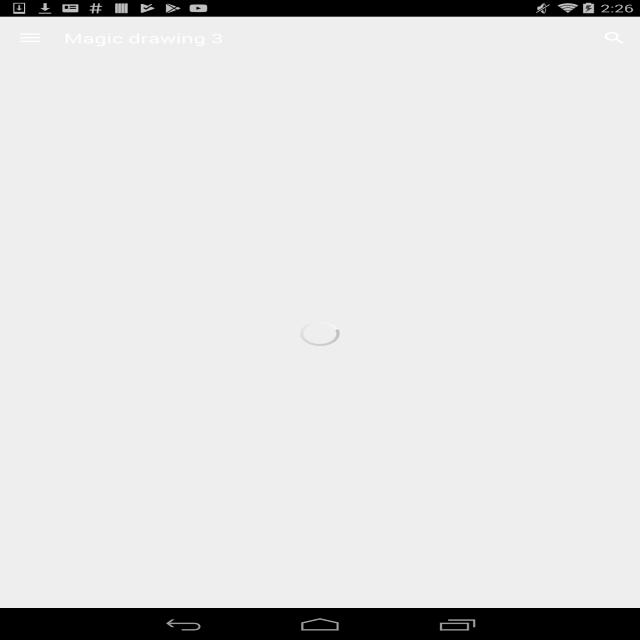Button: (222, 406, 316, 472), (324, 406, 418, 472), (426, 406, 520, 472), (454, 352, 614, 376)
ImageButton: (0, 17, 60, 59)
ImageView: (0, 59, 640, 254), (26, 270, 196, 377), (296, 550, 441, 640), (0, 550, 144, 640), (148, 550, 292, 640), (445, 550, 589, 640), (264, 121, 376, 192), (593, 550, 640, 640), (332, 406, 411, 455), (434, 406, 513, 455), (60, 30, 224, 46), (589, 270, 614, 286), (222, 312, 239, 323), (281, 464, 290, 469)
TextView: (0, 490, 640, 519), (0, 519, 640, 537), (222, 270, 589, 295), (589, 22, 640, 54), (324, 455, 418, 472), (426, 455, 520, 472), (222, 295, 335, 309), (120, 455, 213, 472), (498, 380, 614, 392), (397, 380, 485, 392), (245, 311, 316, 325), (144, 420, 188, 440), (250, 415, 288, 437), (133, 443, 200, 452), (247, 455, 278, 472)
